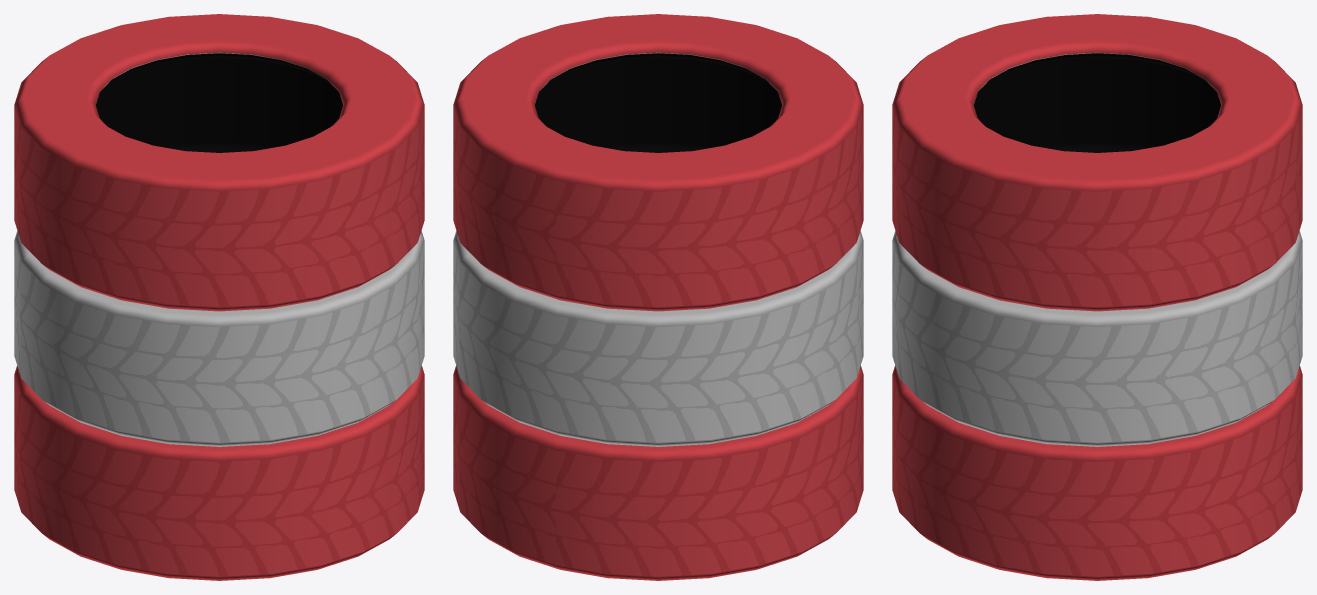
Rendered from Tire-barrier_2-color-A.fbx.
3 renders of one model, left to right at view 1: azimuth 30°, elevation 25°; view 2: azimuth 150°, elevation 25°; view 3: azimuth 270°, elevation 25°, orthographic.
Parts seen in each view (by area): view 1: Tire-barrier_2-color-A; view 2: Tire-barrier_2-color-A; view 3: Tire-barrier_2-color-A.
Part boxes in pixels (x1,y1,x2,y2): Tire-barrier_2-color-A: (14,14,424,580); Tire-barrier_2-color-A: (453,14,863,580); Tire-barrier_2-color-A: (892,14,1302,580).
Bounding box in the file's own units: 91.6 × 98.8 × 91.6.
